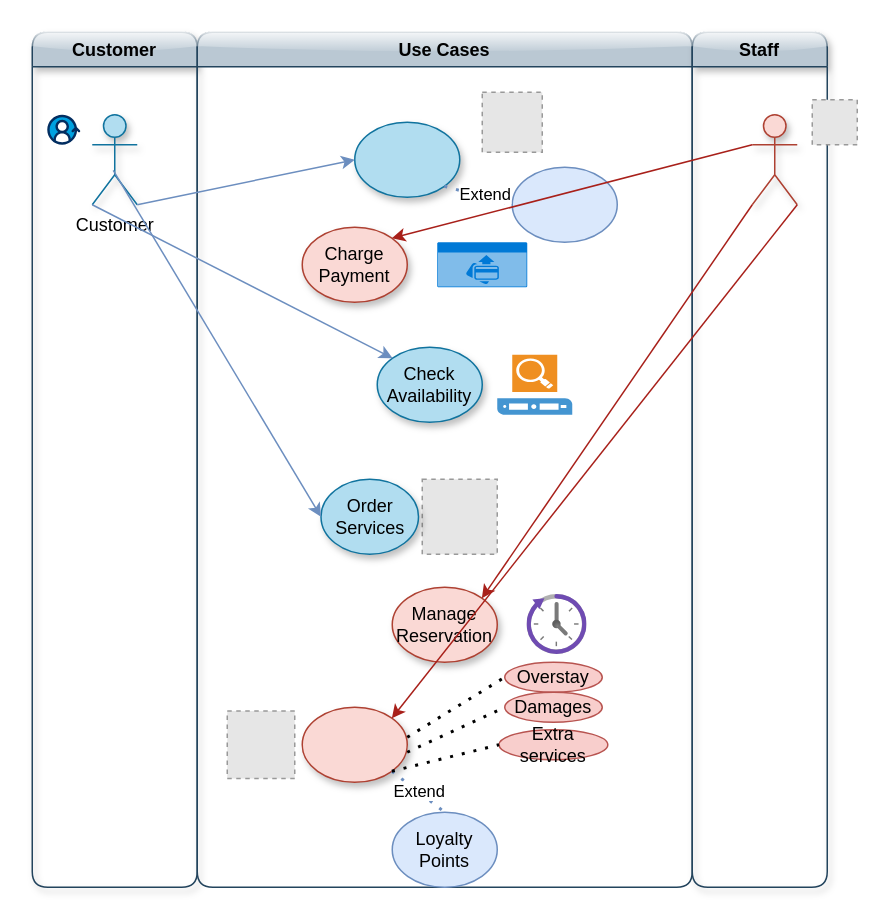
This 884x924 diagram has some shape labels left out. Grey dashed boxes stand in for pictures. Here are the shapes that lost their labels. From the top down, the centre of each, then its label:
(x=408, y=161): Make Reservation
(x=775, y=161): Hotel Staff
(x=564, y=204): Extend Reservation
(x=481, y=264): Payment
(x=355, y=746): Generate Bill
